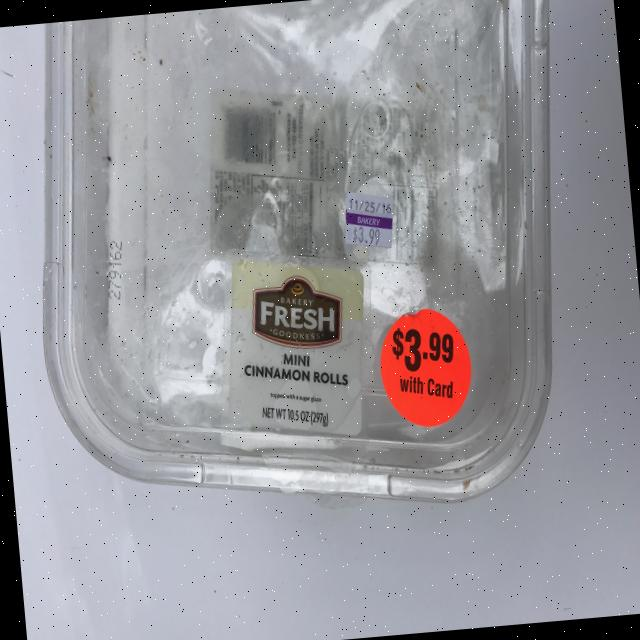plastic: (15, 0, 591, 535)
